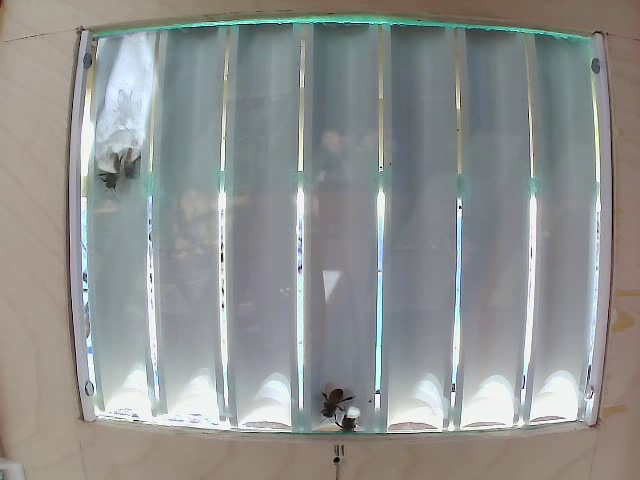bee: (316, 372, 369, 425), (97, 144, 123, 197)
